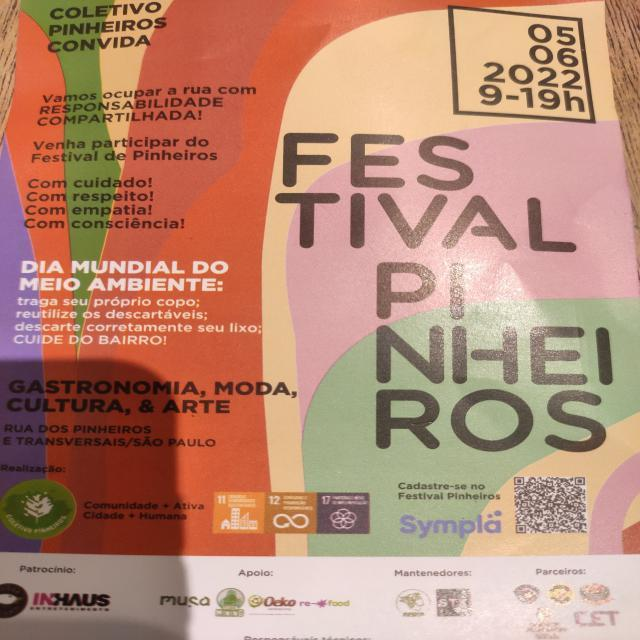qrcode: (515, 478, 589, 534)
